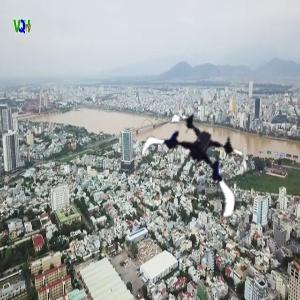drone: (140, 101, 253, 214)
